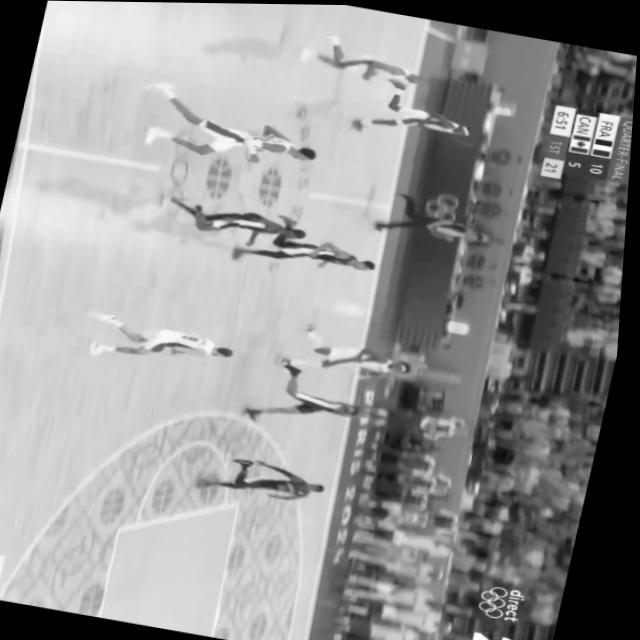ball_handler: (80, 312, 243, 378)
